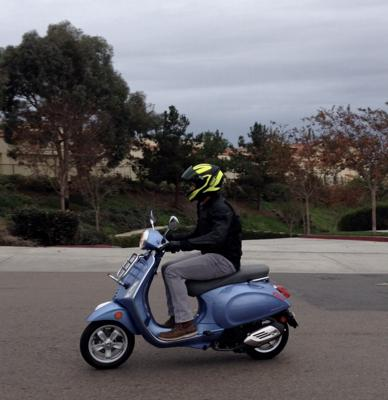With Helmet: (174, 157, 231, 206)
